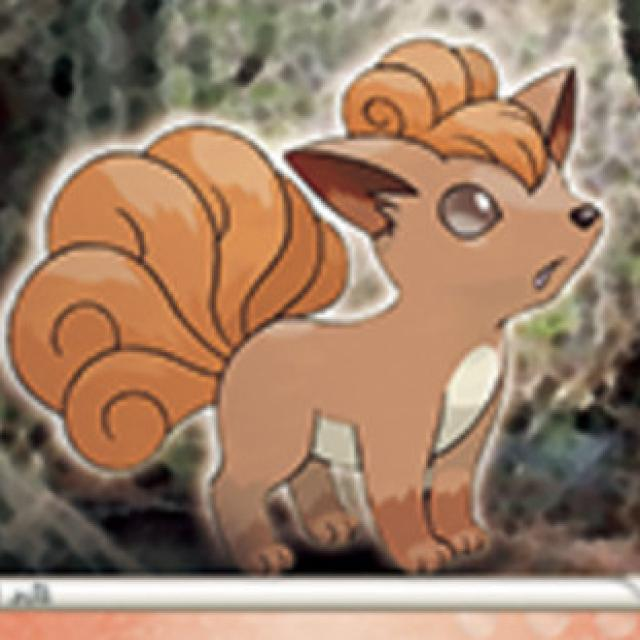Vulpix: (160, 42, 590, 569)
